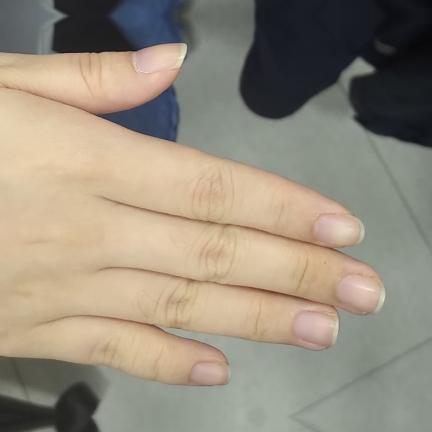Nail: (337, 273, 386, 314), (314, 213, 366, 247), (132, 41, 187, 72), (293, 310, 339, 346), (189, 361, 230, 385)
